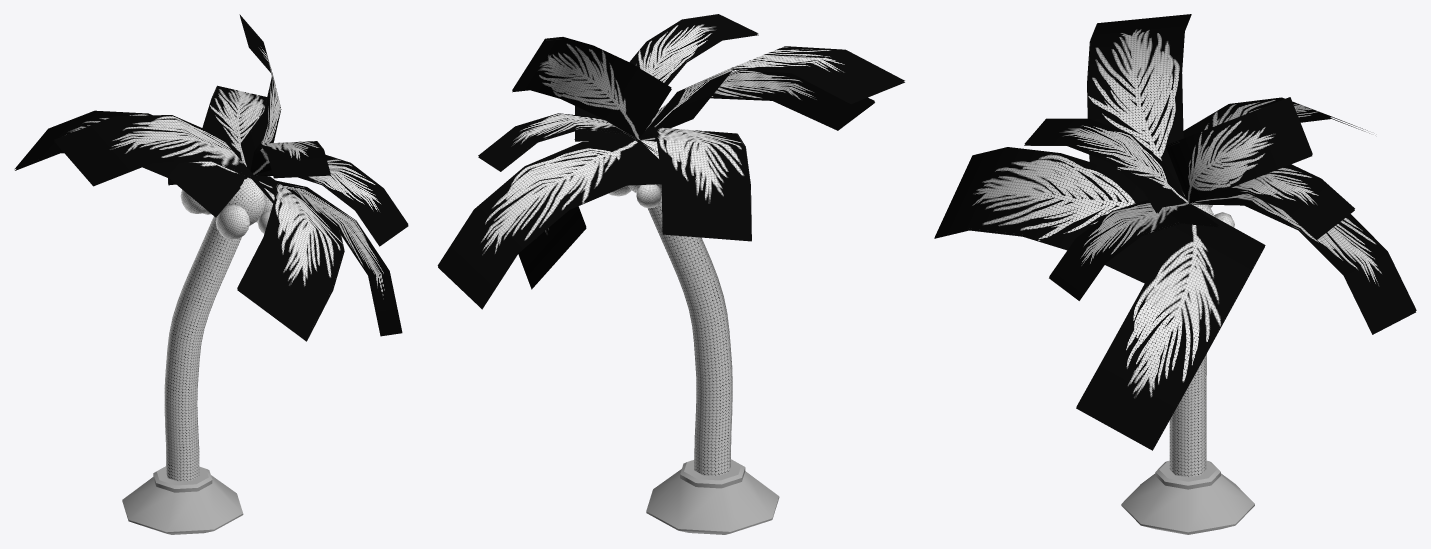
Rendered from Holo_PalmBend.fbx.
3 renders of one model, left to right at view 1: azimuth 30°, elevation 25°; view 2: azimuth 150°, elevation 25°; view 3: azimuth 270°, elevation 25°, orthographic. The views are drawn at different scales.
Parts seen in each view (by area): view 1: HoloPalmBend; view 2: HoloPalmBend; view 3: HoloPalmBend.
Part boxes in pixels (x1,y1,x2,y2): HoloPalmBend: [14, 14, 408, 534]; HoloPalmBend: [437, 14, 904, 534]; HoloPalmBend: [934, 14, 1416, 534].
Bounding box in the file's own units: 12.57 × 16.89 × 15.62.
